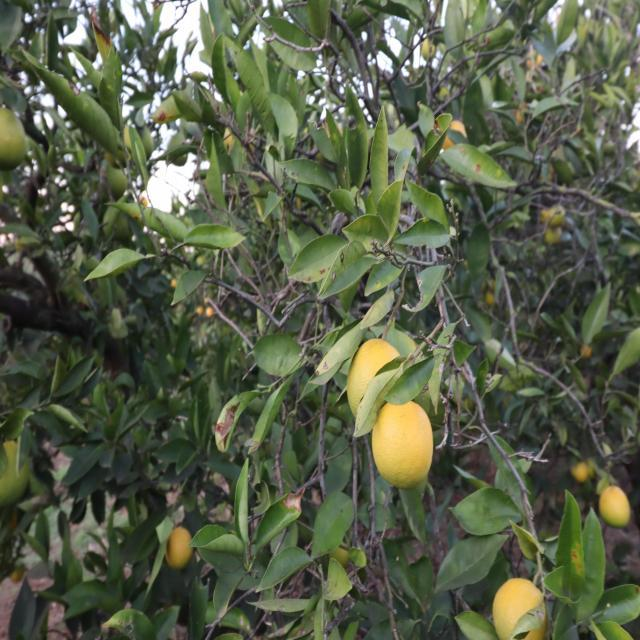Jeruk Belum Matang: (0, 440, 31, 507), (0, 108, 31, 174)
Jeruk Sudah Matang: (372, 400, 434, 490), (352, 338, 409, 433), (494, 576, 549, 640), (438, 120, 474, 168), (600, 483, 634, 528), (165, 528, 192, 570), (569, 456, 590, 482), (420, 37, 438, 64)
